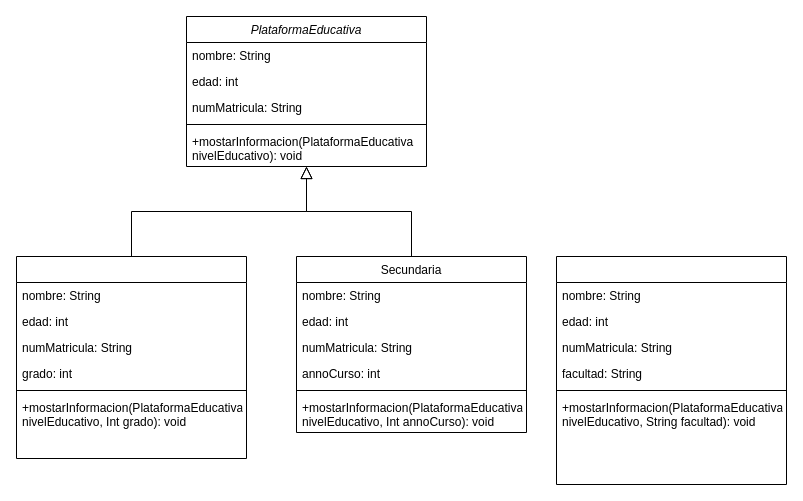
Image size: 803x501. Some labels were removed from this diagram. Here are the shapes that lost their labels. From the top down, the box of each, then its label:
(16, 256, 246, 458): Primaria
(556, 256, 786, 484): Universidad
